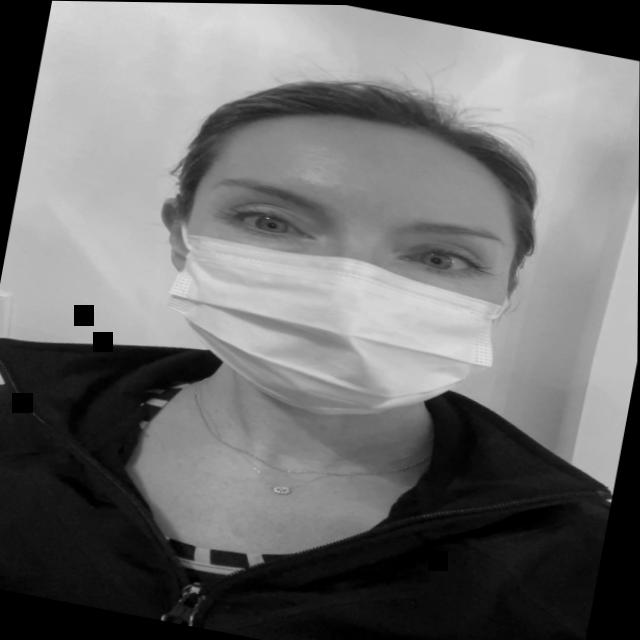Mask: (100, 51, 581, 465)
